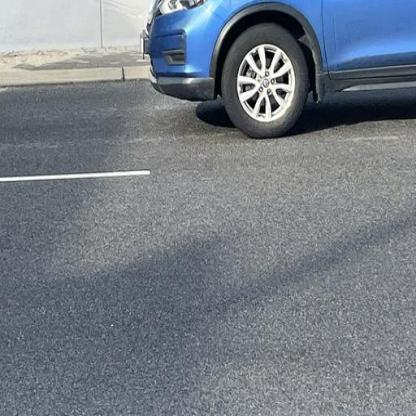Tire: (220, 21, 309, 139)
